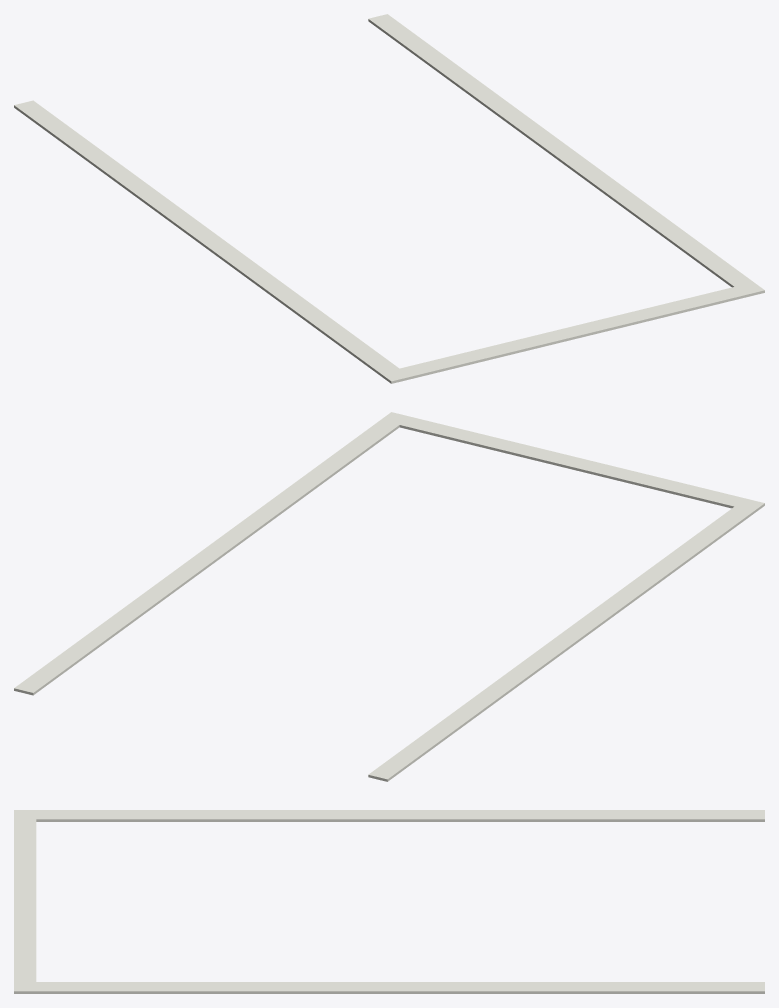
Rendered from parking_mark.glb.
3 views of the same model, one above another, from view 1: azimuth 30°, elevation 25°; view 2: azimuth 150°, elevation 25°; view 3: azimuth 270°, elevation 25° (orthographic).
Parts seen in each view (by area): view 1: parking_mark; view 2: parking_mark; view 3: parking_mark.
Part boxes in pixels (box(x1,y1,x2,y2)): parking_mark: box(14, 14, 764, 383); parking_mark: box(14, 412, 764, 781); parking_mark: box(14, 810, 764, 993).
Bounding box in the file's own units: 2.32 × 0.015 × 4.06.
Materials: 1 (1 with a texture image).
